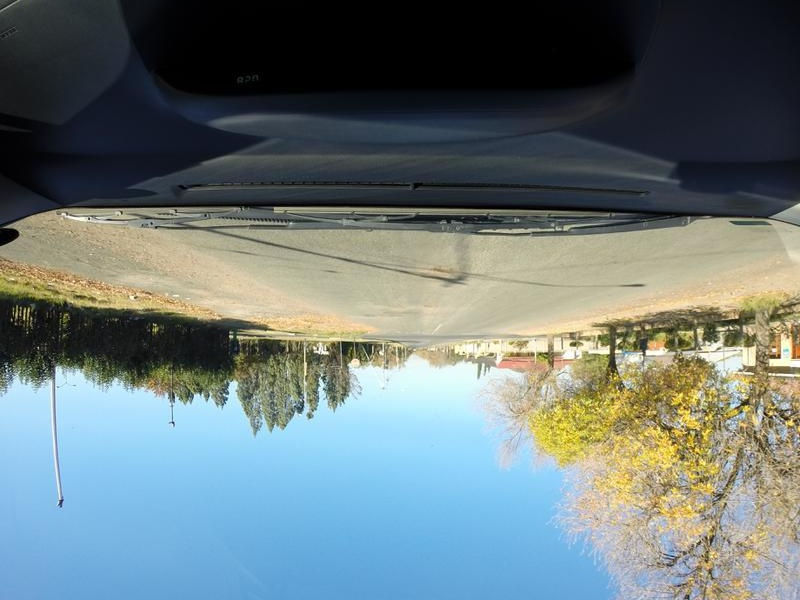pothole: (422, 258, 470, 281)
